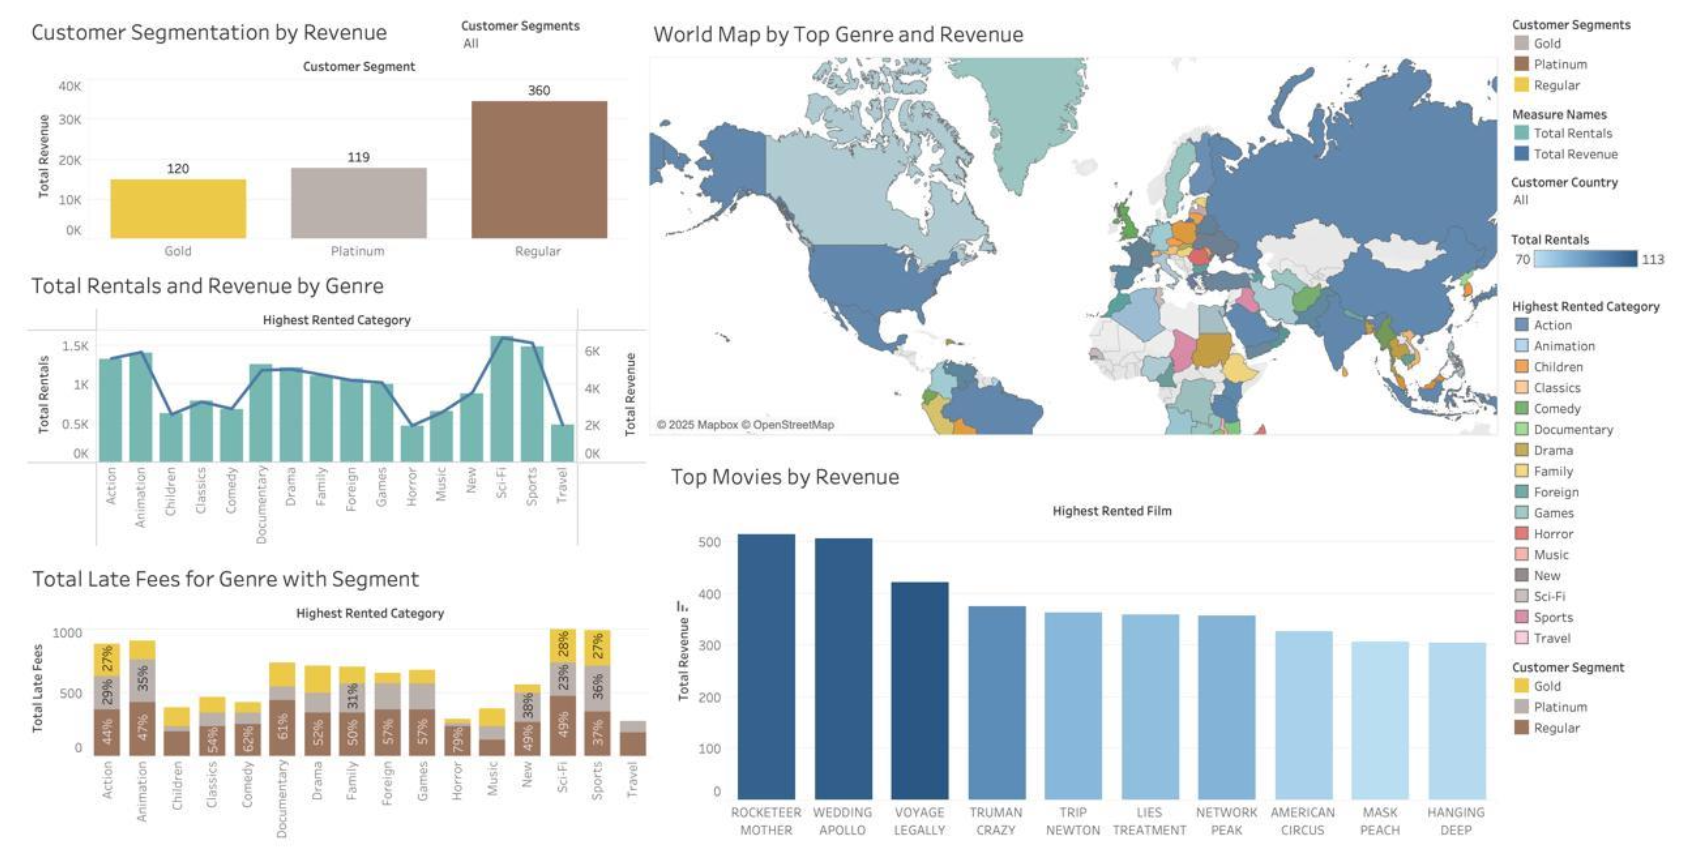

The dashboard page shown, as its layout file describes it:
{"tool":"tableau","page":{"name":"Dashboard 1","canvas":[1600,900],"ordinal":0},"visuals":[{"type":"legend","title":"Sheet 1","param":"[federated.19o8z9p16ngqm21607czn05p8orh].[usr:Calculation_4988721803661467648:nk","box":[1432,8,160,86]},{"type":"worksheet","title":"Sheet 1","mark":"Automatic","rows":["Total_Revenue"],"cols":["Customer_Segment"],"box":[14,9,577,240]},{"type":"worksheet","title":"Sheet 4","mark":"Multipolygon","box":[610,11,814,406]},{"type":"filter","title":"Sheet 1","param":"[federated.19o8z9p16ngqm21607czn05p8orh].[usr:Calculation_4988721803661467648:nk","box":[430,14,160,52]},{"type":"legend","title":"Sheet 2","param":"[federated.19o8z9p16ngqm21607czn05p8orh].[:Measure Names]","box":[1432,94,160,66]},{"type":"filter","title":"Sheet 3","param":"[federated.19o8z9p16ngqm21607czn05p8orh].[none:Customer_Country:nk]","box":[1432,160,160,52]},{"type":"legend","title":"Sheet 3","param":"[federated.19o8z9p16ngqm21607czn05p8orh].[sum:Total_Rentals:qk]","box":[1432,212,160,65]},{"type":"worksheet","title":"Sheet 2","mark":"Bar","rows":["Total_Rentals","Total_Revenue"],"cols":["Highest_Rented_Category"],"box":[14,252,594,271]},{"type":"legend","title":"Sheet 4","param":"[federated.19o8z9p16ngqm21607czn05p8orh].[none:Highest_Rented_Category:nk]","box":[1432,277,160,346]},{"type":"worksheet","title":"Sheet 3","mark":"Automatic","rows":["Total_Revenue"],"cols":["Highest_Rented_Film"],"box":[627,435,794,371]},{"type":"worksheet","title":"Sheet 5","mark":"Automatic","rows":["Total_Late_Fees"],"cols":["Highest_Rented_Category"],"box":[15,533,596,271]},{"type":"legend","title":"Sheet 5","param":"[federated.19o8z9p16ngqm21607czn05p8orh].[none:Customer_Segment:nk]","box":[1432,623,160,86]}]}

Visuals, with their boxes on the page's 1600x900 design canvas (x1, y1, x2, y2). These are canvas units, not pixel positions in the 1702x866 screenshot, which may show the page scaled, cropped or inside an application window:
"Sheet 1" legend: <box>1432,8,1592,94</box>
"Sheet 1" worksheet: <box>14,9,591,249</box>
"Sheet 4" worksheet (Multipolygon marks): <box>610,11,1424,417</box>
"Sheet 1" filter: <box>430,14,590,66</box>
"Sheet 2" legend: <box>1432,94,1592,160</box>
"Sheet 3" filter: <box>1432,160,1592,212</box>
"Sheet 3" legend: <box>1432,212,1592,277</box>
"Sheet 2" worksheet (Bar marks): <box>14,252,608,523</box>
"Sheet 4" legend: <box>1432,277,1592,623</box>
"Sheet 3" worksheet: <box>627,435,1421,806</box>
"Sheet 5" worksheet: <box>15,533,611,804</box>
"Sheet 5" legend: <box>1432,623,1592,709</box>
